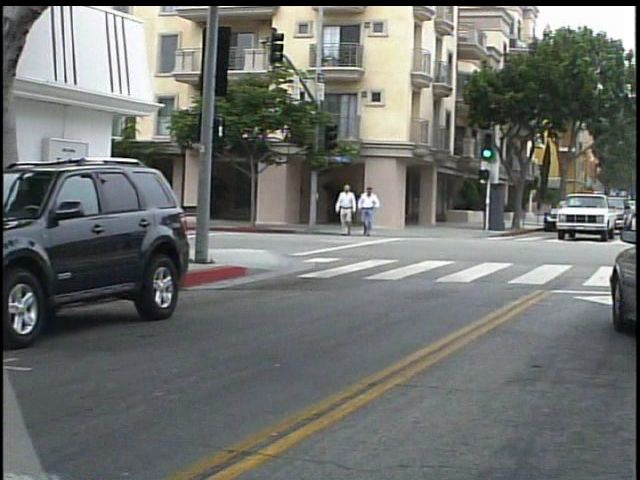person: (341, 180, 365, 243), (362, 183, 388, 241)
